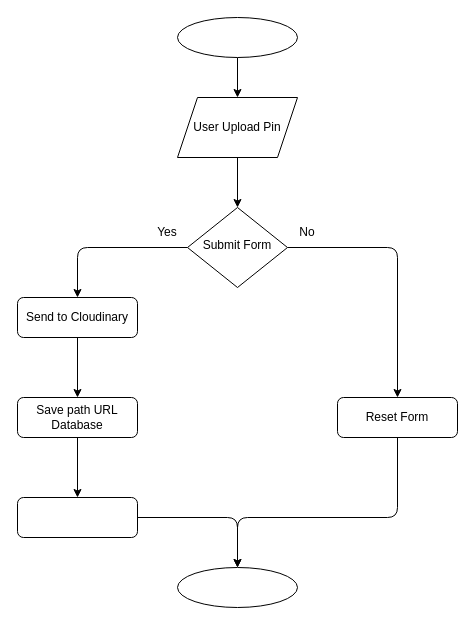
Some shapes in this 475 by 625 pixel diagram are drawn without their labels. Each missing label, with the centre of its shape:
End: the point at 237,587
Send result path for user: the point at 77,517
Start: the point at 237,37
